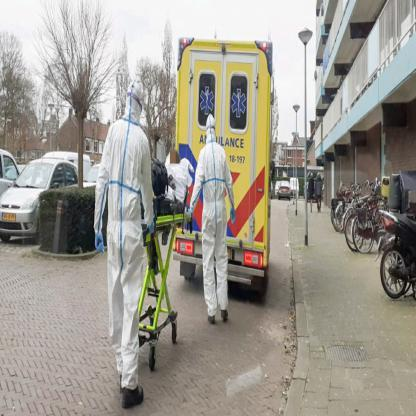Ambulance - v1 Ambulance last generate: (178, 34, 268, 288)
